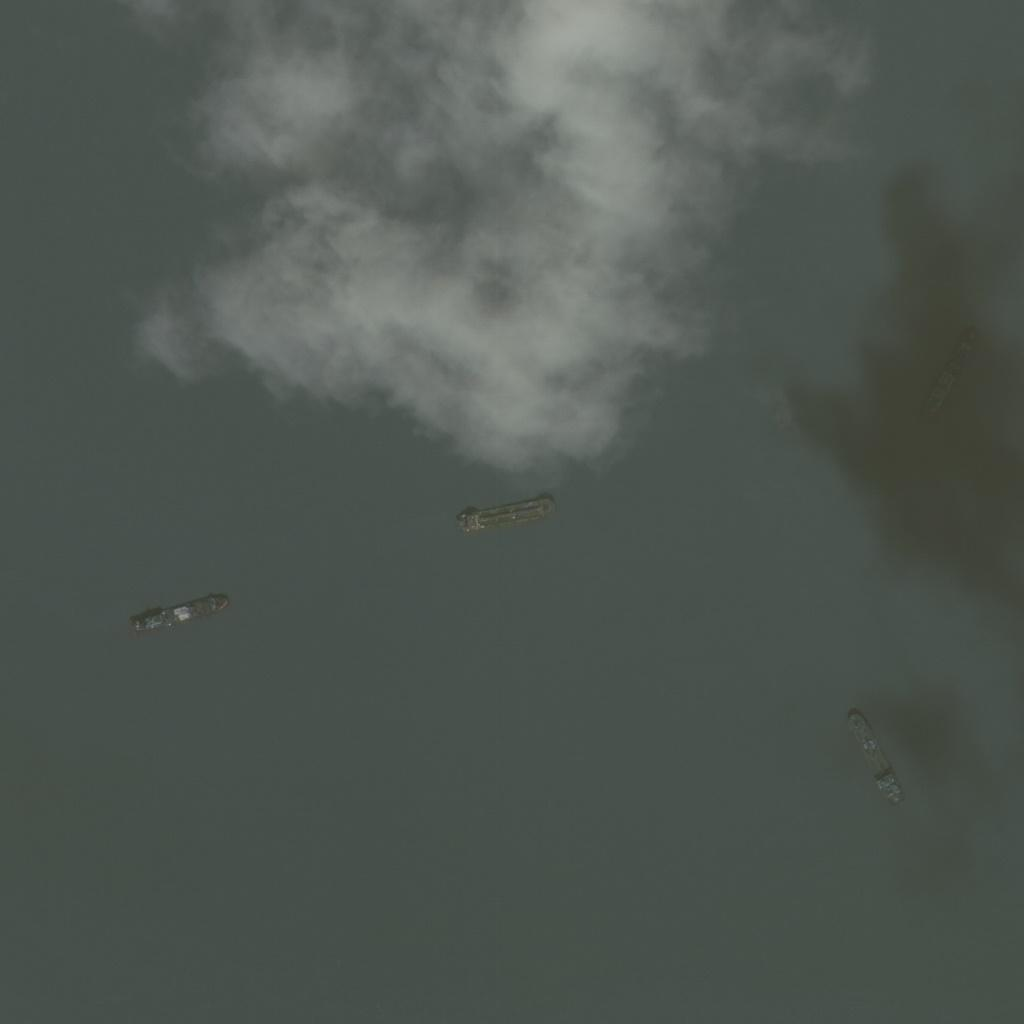ship: (455, 496, 571, 537)
